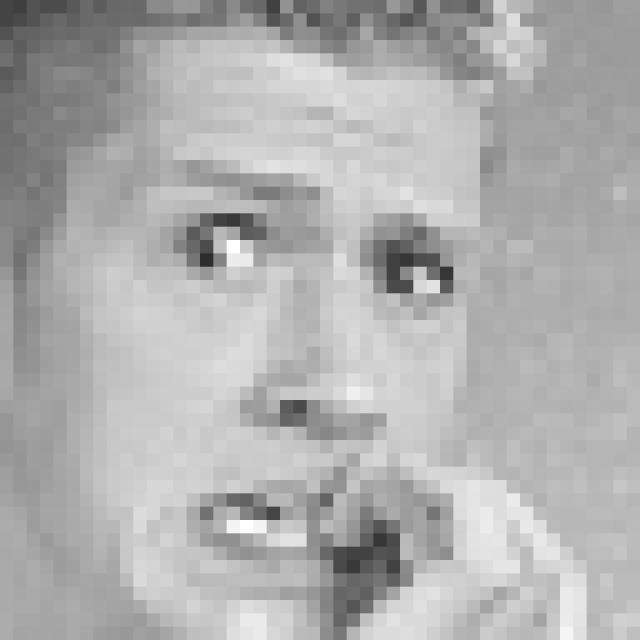fear: (127, 154, 477, 586)
